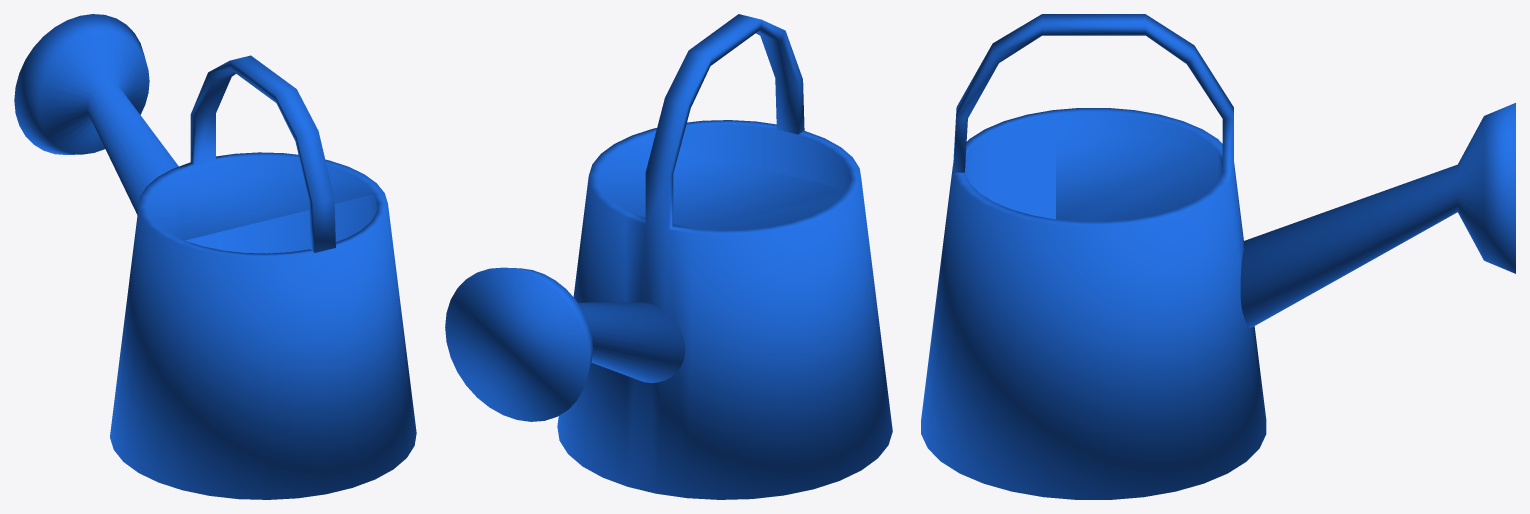
File: Watering Can.fbx
The picture shows the model from 3 angles, left to right: view 1: azimuth 30°, elevation 25°; view 2: azimuth 150°, elevation 25°; view 3: azimuth 270°, elevation 25°; orthographic projection. The views are drawn at different scales.
Parts seen in each view (by area): view 1: Circle, Circle.001; view 2: Circle, Circle.001; view 3: Circle, Circle.001.
Part boxes in pixels (left/top/right/bottom): Circle: left=110, top=55, right=416, bottom=499; Circle.001: left=14, top=14, right=178, bottom=214; Circle: left=557, top=14, right=892, bottom=499; Circle.001: left=445, top=267, right=685, bottom=421; Circle: left=921, top=14, right=1266, bottom=499; Circle.001: left=1240, top=103, right=1515, bottom=327.
Bounding box in the file's own units: 267 × 348 × 461.
